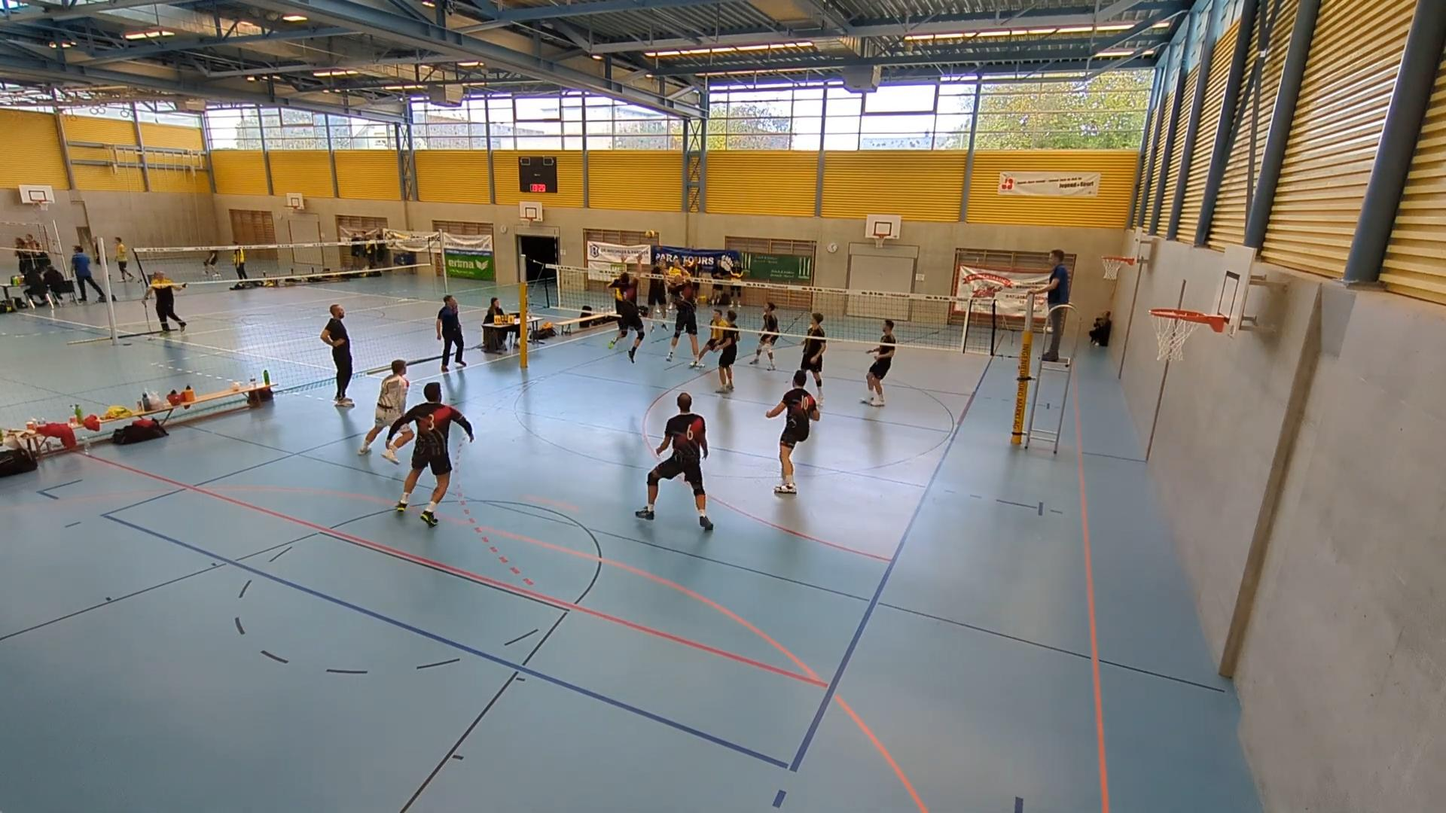muro: (609, 250, 646, 365), (665, 257, 702, 371)
